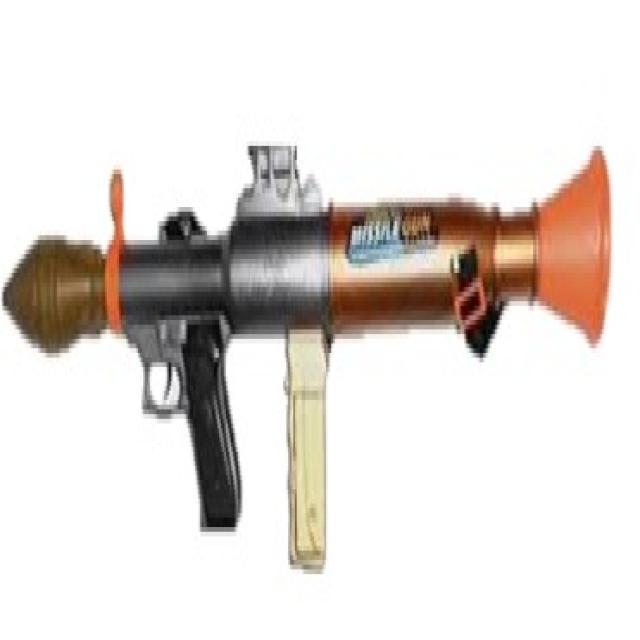bazooka: (5, 122, 616, 586)
